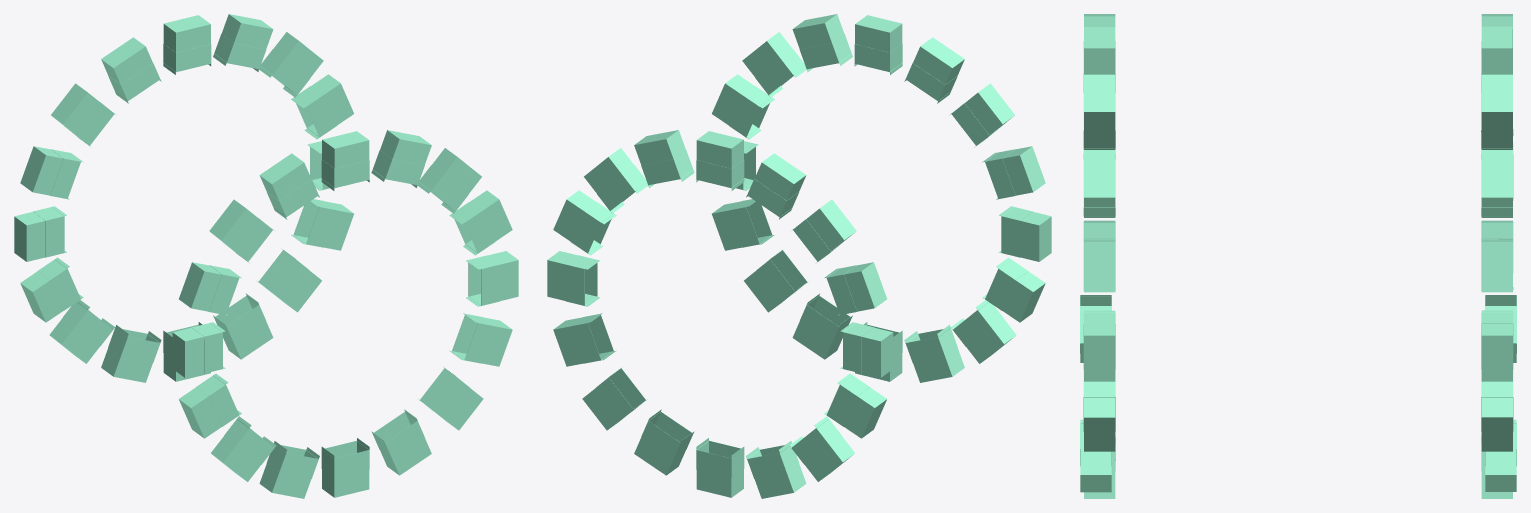
The model's file is Serv-Muon-Barrel-Calo-Ele-Boxes.glb.
3 views of the same model, side by side, from view 1: azimuth 30°, elevation 25°; view 2: azimuth 150°, elevation 25°; view 3: azimuth 270°, elevation 25° (orthographic). The views are drawn at different scales.
Parts seen in each view (by area): view 1: Electrical Boxes Barrel; view 2: Electrical Boxes Barrel; view 3: Electrical Boxes Barrel.
Part boxes in pixels (<box>): Electrical Boxes Barrel: <box>14,14,518,498</box>; Electrical Boxes Barrel: <box>547,14,1051,498</box>; Electrical Boxes Barrel: <box>1080,14,1516,498</box>.
Bounding box in the file's own units: 7.57 × 7.58 × 6.85.
